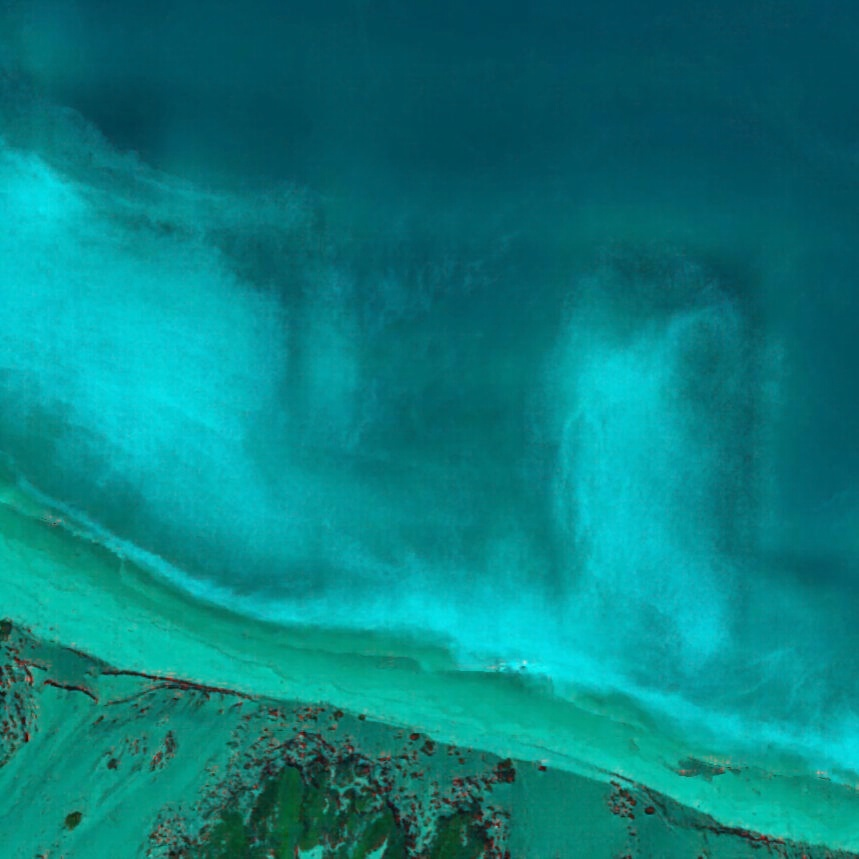rip_current: (259, 133, 607, 594)
